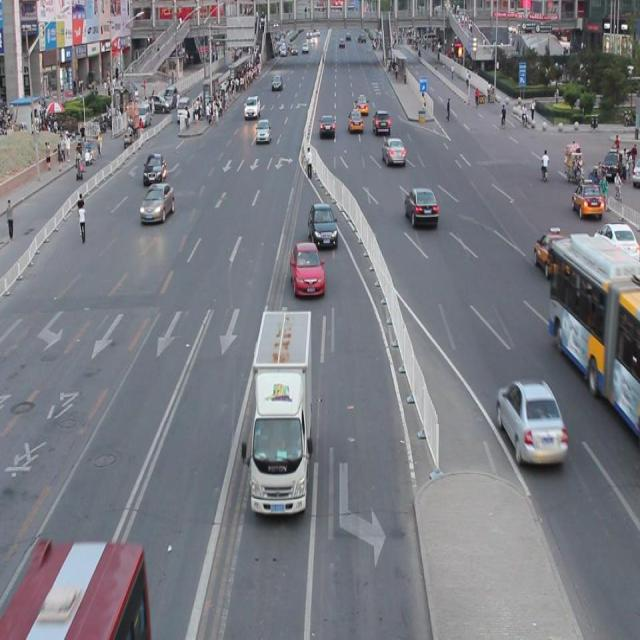bus: (248, 309, 311, 511)
car: (495, 377, 565, 464), (290, 240, 324, 298), (593, 221, 640, 261), (533, 230, 572, 276), (139, 182, 175, 223), (404, 186, 438, 228), (307, 200, 336, 248), (571, 181, 602, 217), (142, 152, 166, 185)
van: (547, 238, 640, 439), (1, 538, 152, 640)
